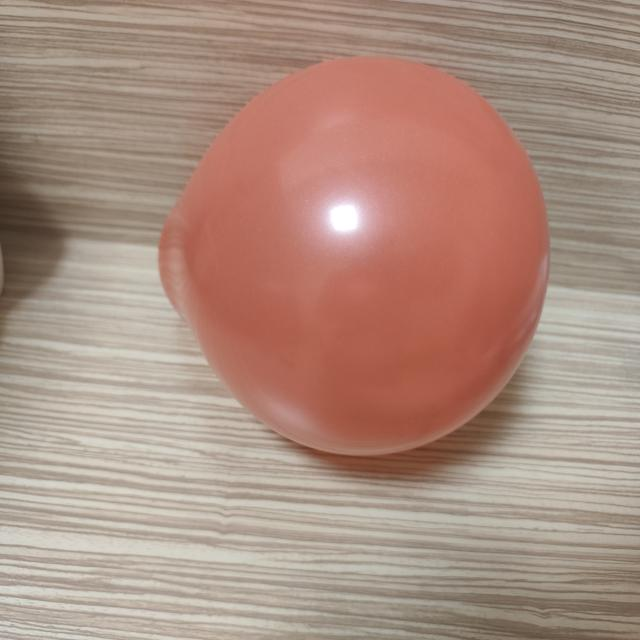balloon: (159, 57, 549, 455)
